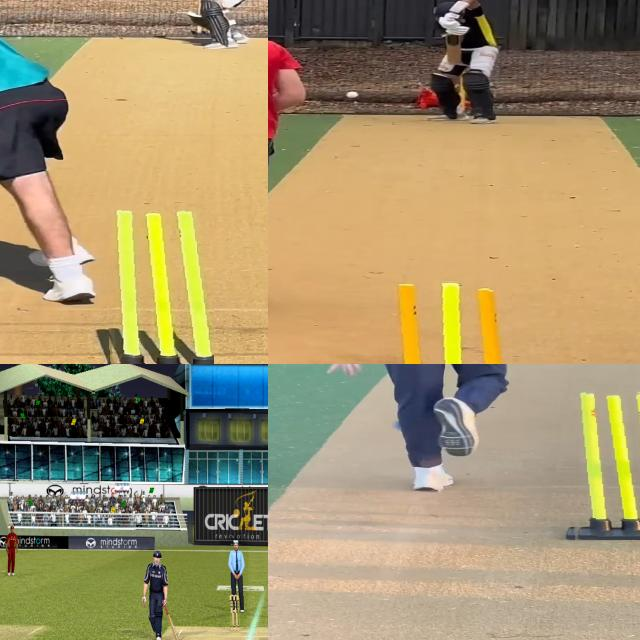Cricket ball: (346, 91, 359, 99)
Stumps: (98, 208, 213, 364), (374, 278, 512, 364), (562, 391, 640, 540), (228, 594, 239, 628)
